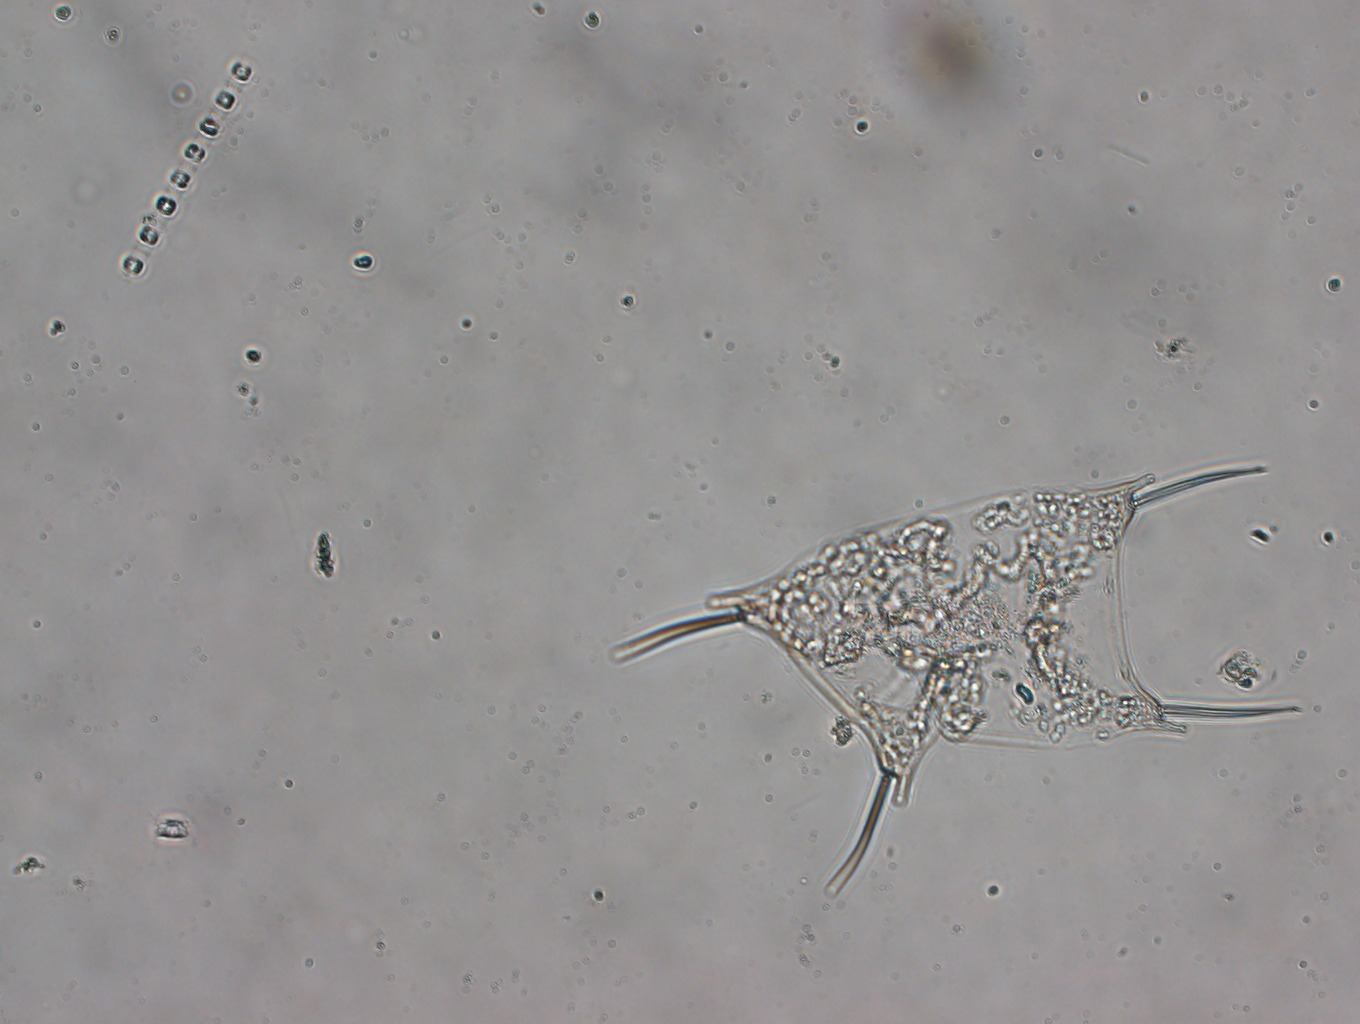biddulphia: (610, 464, 1306, 895)
skeletonema: (114, 59, 253, 279)
